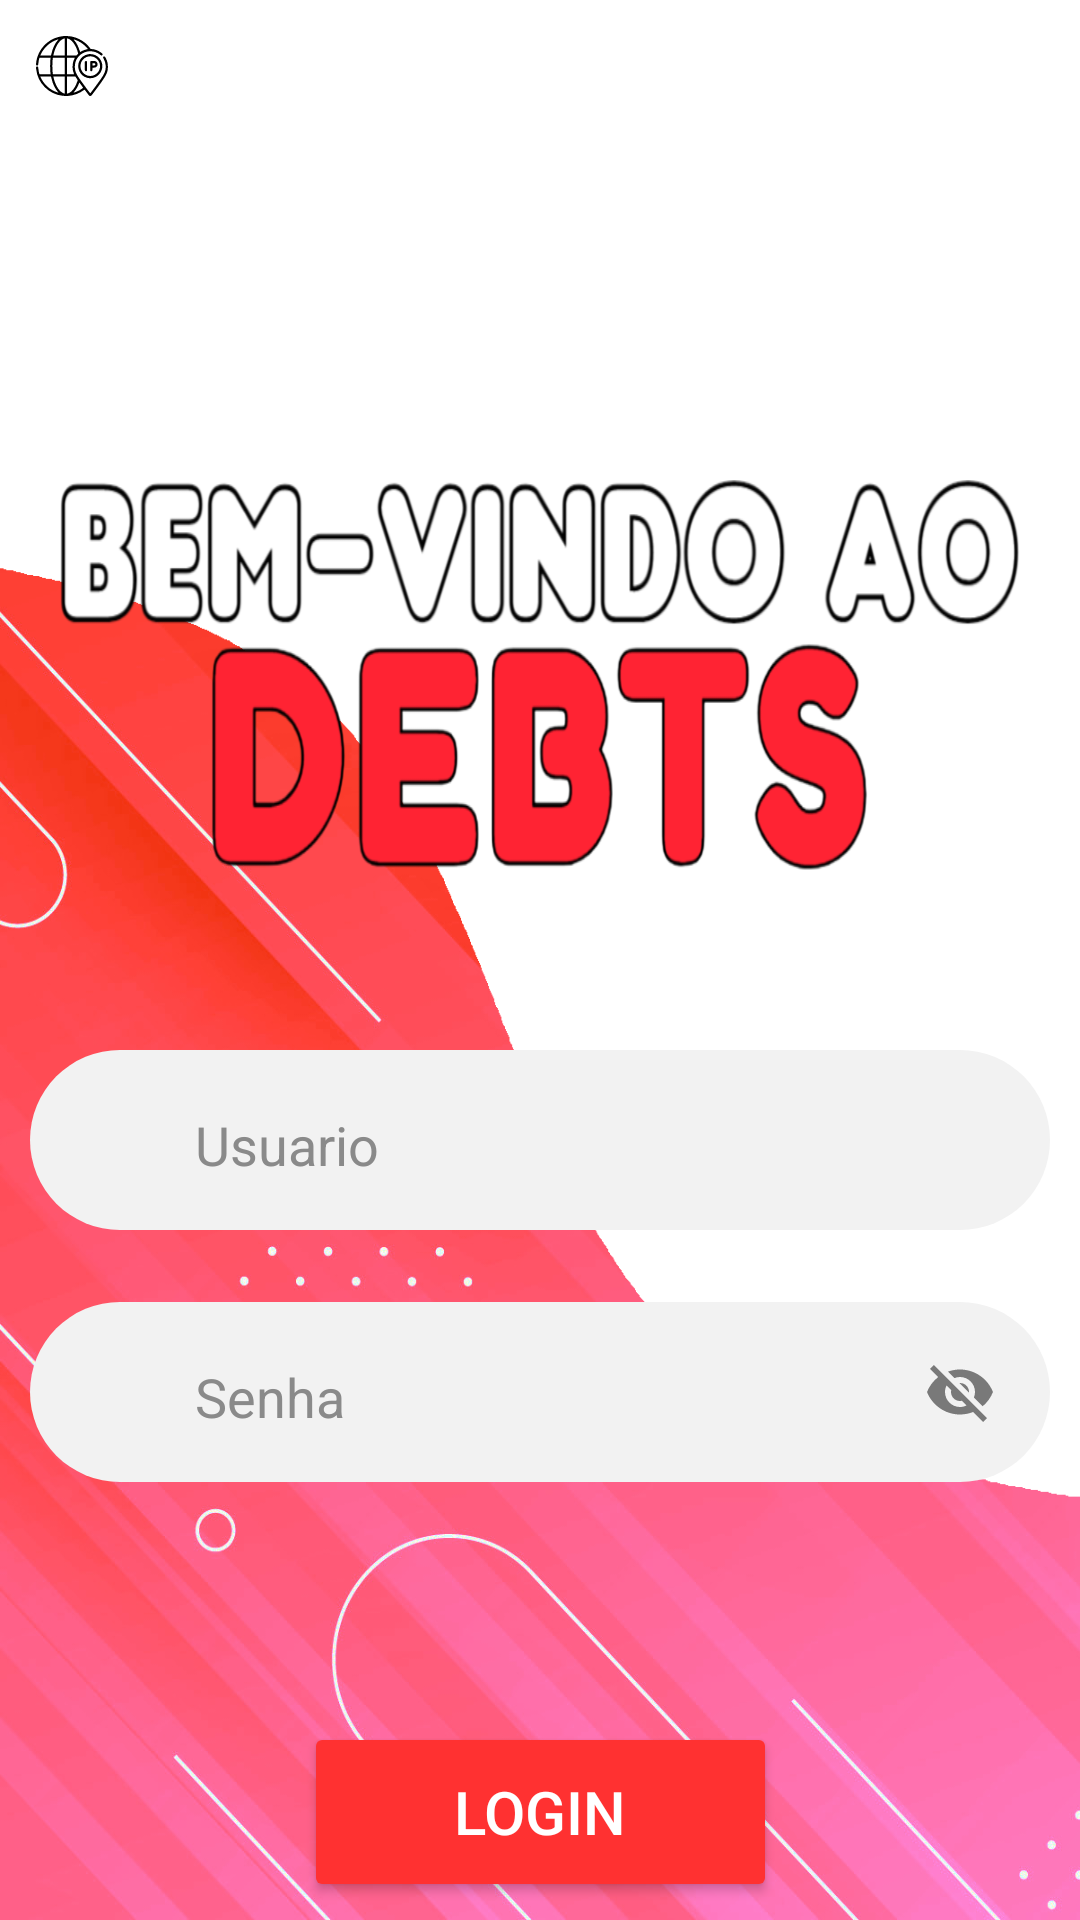

Screen size 1080x1920. Icon name, then its box in pixels as [left=x1, top=y1, right=x2, bottom=y2]:
ip adress: [left=36, top=36, right=108, bottom=96]
visibility off: [left=927, top=1365, right=993, bottom=1422]
